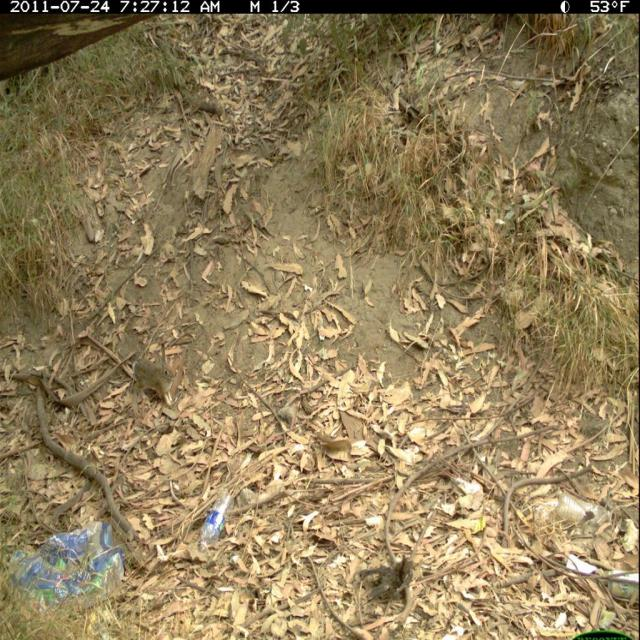rabbit: (131, 342, 179, 411)
